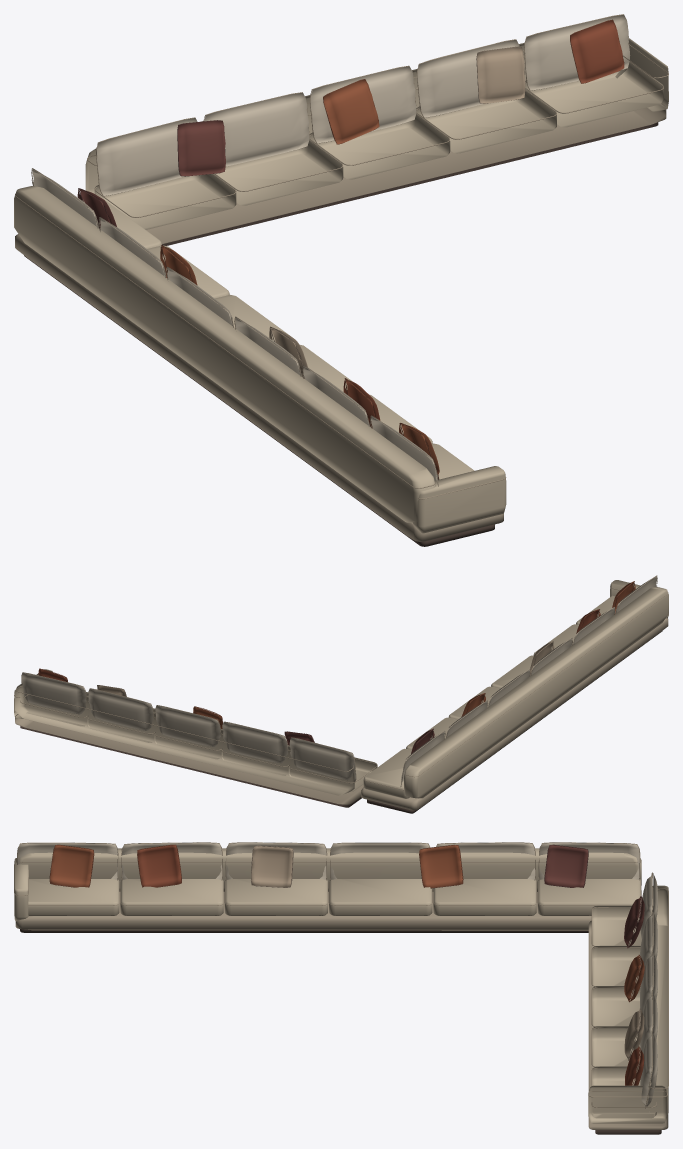
File: corner-sofa.glb
The picture shows the model from 3 angles, top to bottom: view 1: azimuth 30°, elevation 25°; view 2: azimuth 150°, elevation 25°; view 3: azimuth 270°, elevation 25°; orthographic projection. The views are drawn at different scales.
Visible parts, largest first — view 1: Surface; view 2: Surface; view 3: Surface.
Part boxes in pixels (x1,y1,x2,y2): Surface: [14, 14, 668, 546]; Surface: [14, 575, 668, 813]; Surface: [14, 842, 668, 1134].
Bounding box in the file's own units: 6.38 × 0.8883 × 7.5.
